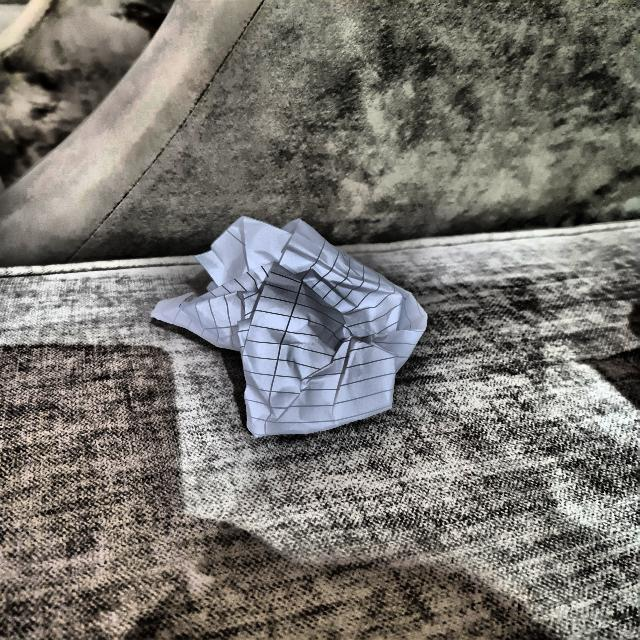Paper: (153, 224, 428, 436)
